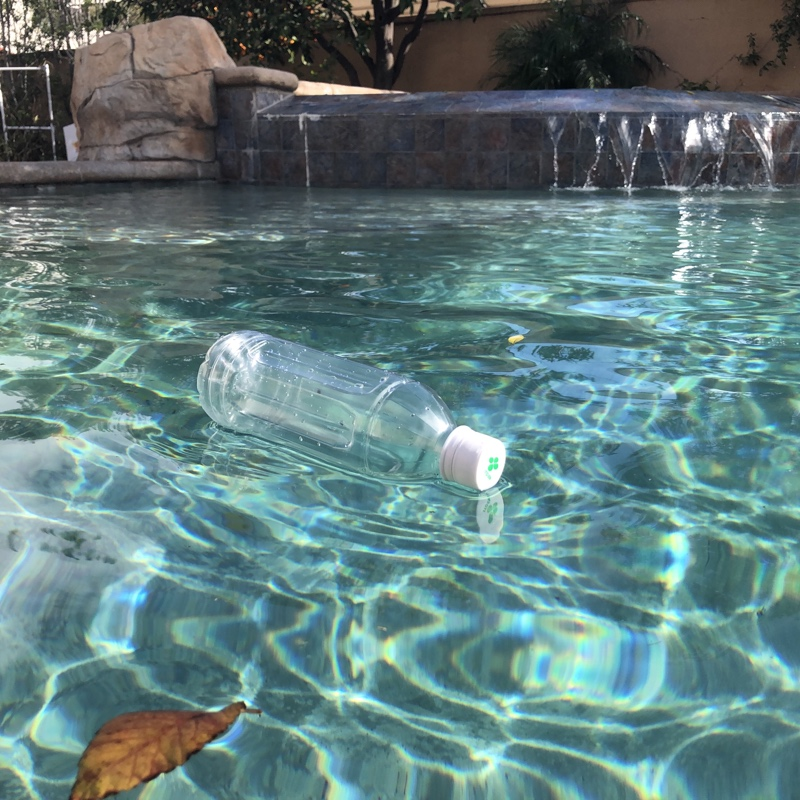Plastic Bottle: (193, 321, 510, 496)
